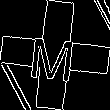M_N: (30, 28, 80, 82)
